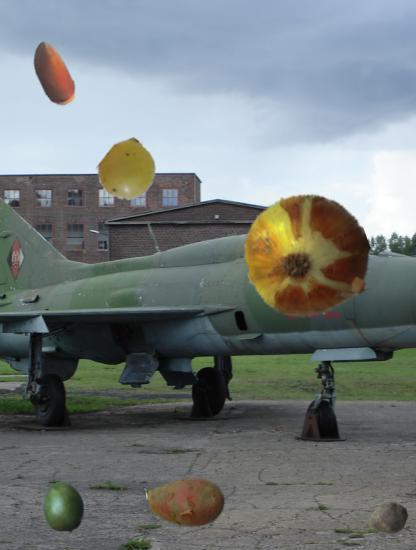Beetroot: (359, 494, 410, 545)
Grape: (98, 140, 159, 201)
Hazelnut: (18, 39, 88, 109)
Mango: (38, 482, 89, 533)
Onion: (244, 192, 369, 317)
Potato: (147, 463, 227, 543)
